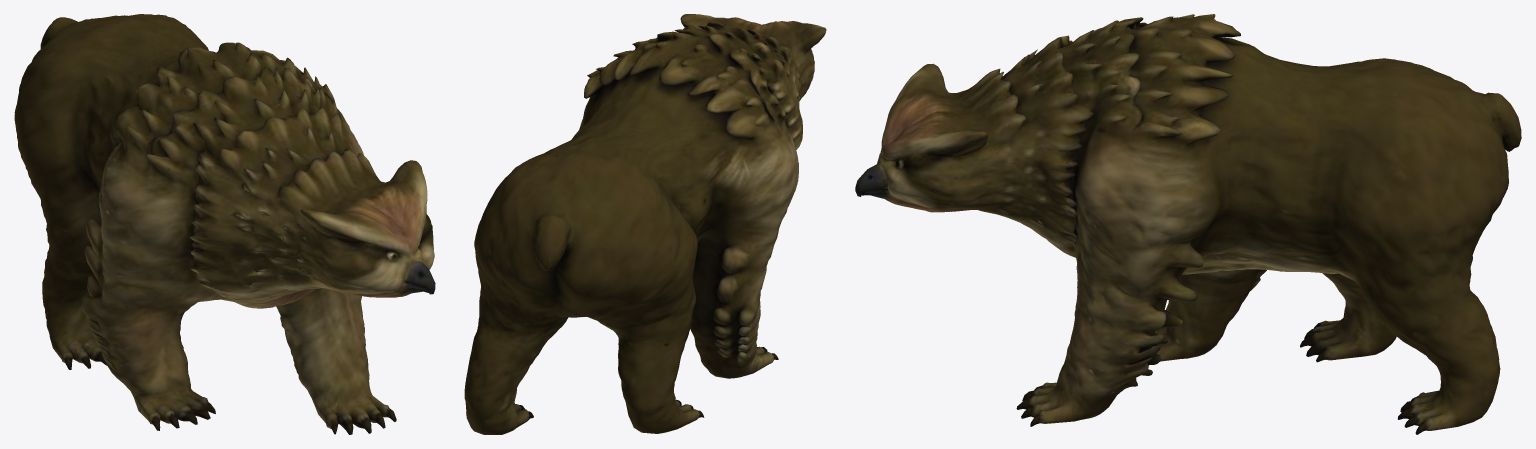
File: MZ4250 - Owlbear_alt.glb
3 views of the same model, side by side, from view 1: azimuth 30°, elevation 25°; view 2: azimuth 150°, elevation 25°; view 3: azimuth 270°, elevation 25° (orthographic). The views are drawn at different scales.
Visible parts, largest first — view 1: Base Organic Sphere.001; view 2: Base Organic Sphere.001; view 3: Base Organic Sphere.001.
Boxes of the visible parts, x1,y1,x2,y2 form: Base Organic Sphere.001: (14,14,435,434); Base Organic Sphere.001: (464,14,826,434); Base Organic Sphere.001: (855,14,1521,434).
Size of the model in its own units: 0.7486 by 1.03 by 1.73.
1 material, 1 textured.
